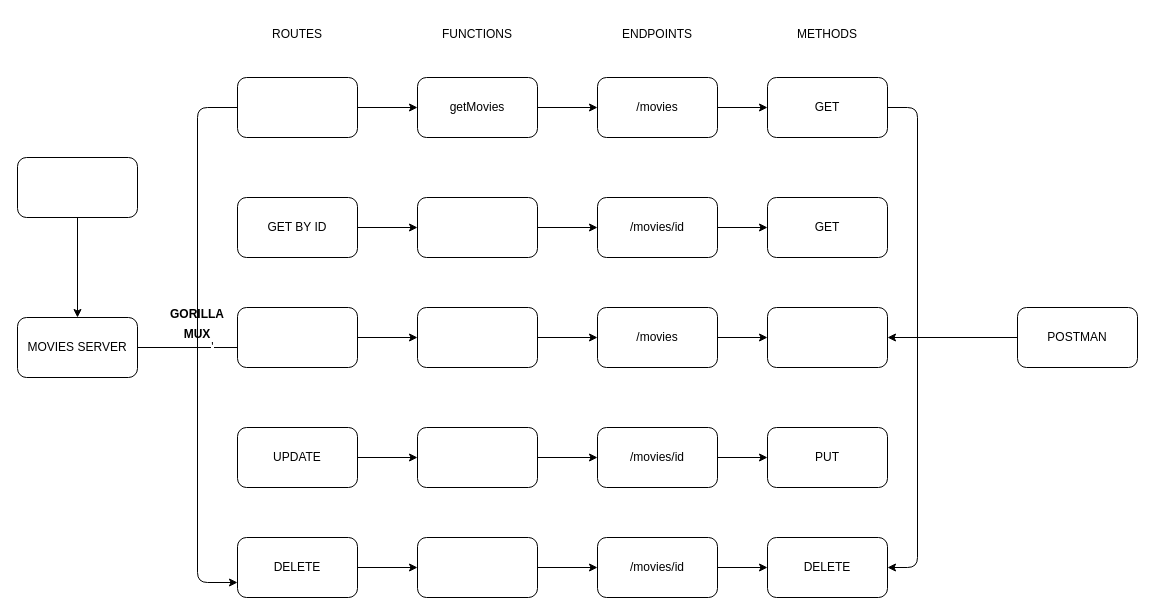
This 1155x615 diagram has some shape labels left out. The centre of each missing label's shape, as x and y in pixels:
"CREATE" belongs at point (297, 337).
"createMovie" belongs at point (477, 337).
"DATABASE" belongs at point (77, 187).
"deleteMovie" belongs at point (477, 567).
"GET ALL" belongs at point (297, 107).
"getMovie" belongs at point (477, 227).
"POST" belongs at point (827, 337).
"updateMovie" belongs at point (477, 457).
